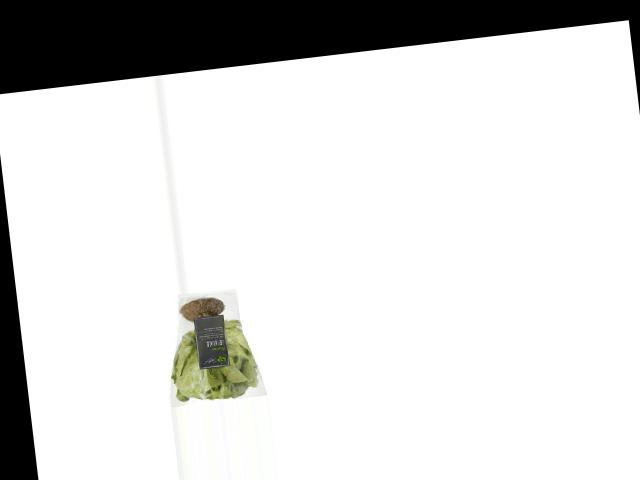lettuce: (158, 285, 264, 406)
